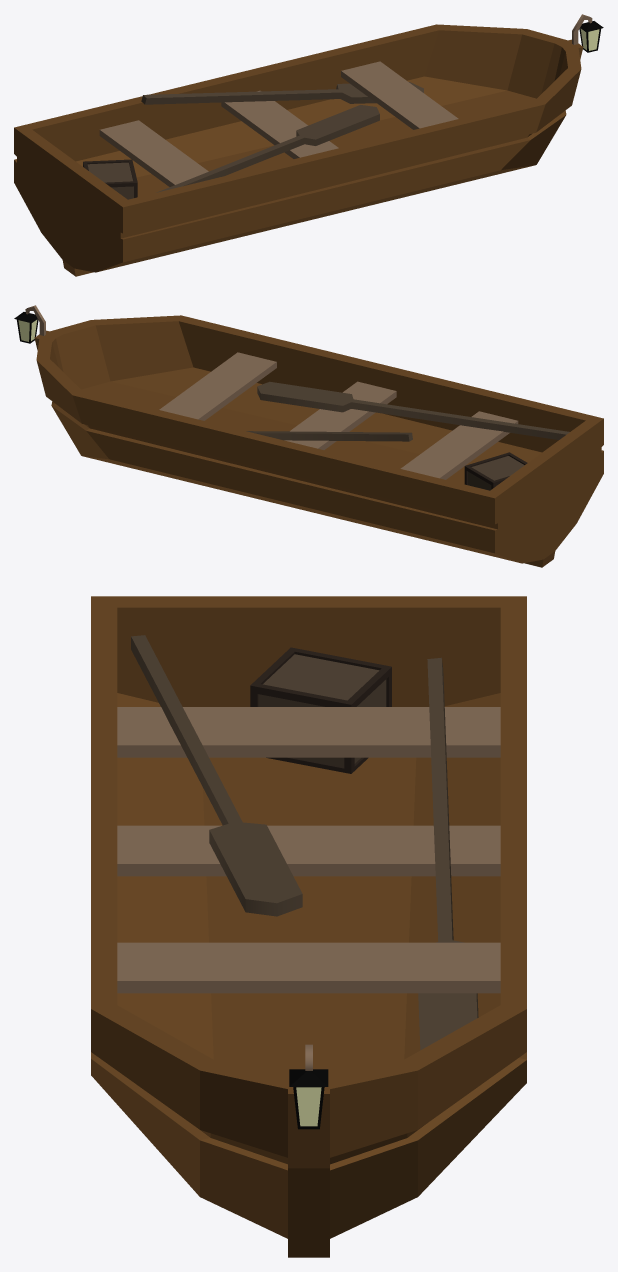
3 renders of one model, top to bottom at view 1: azimuth 30°, elevation 25°; view 2: azimuth 150°, elevation 25°; view 3: azimuth 270°, elevation 25°, orthographic. The views are drawn at different scales.
Parts seen in each view (by area): view 1: Boat_Barca_0, Bancos, Remos, caja_remos_0, cantos_Cajon_0; view 2: Boat_Barca_0, Bancos, Remos, caja_remos_0, cantos_Cajon_0; view 3: Boat_Barca_0, Bancos, Remos, caja_remos_0, cantos_Cajon_0, Farolillo002_BanderaPirata_0, CristalesFarolillos001_Cristales_0.
Part boxes in pixels (left/top/right/bottom): Boat_Barca_0: left=14, top=24, right=583, bottom=276; Bancos: left=99, top=61, right=458, bottom=186; Remos: left=141, top=82, right=423, bottom=192; caja_remos_0: left=87, top=162, right=133, bottom=199; cantos_Cajon_0: left=83, top=159, right=137, bottom=197; Boat_Barca_0: left=34, top=315, right=603, bottom=567; Bancos: left=159, top=352, right=518, bottom=479; Remos: left=246, top=381, right=569, bottom=441; caja_remos_0: left=468, top=456, right=524, bottom=490; cantos_Cajon_0: left=464, top=452, right=527, bottom=489; Boat_Barca_0: left=91, top=596, right=526, bottom=1257; Bancos: left=117, top=707, right=500, bottom=993; Remos: left=131, top=635, right=478, bottom=1050; caja_remos_0: left=258, top=654, right=386, bottom=767; cantos_Cajon_0: left=250, top=647, right=391, bottom=773; Farolillo002_BanderaPirata_0: left=289, top=1069, right=328, bottom=1129; CristalesFarolillos001_Cristales_0: left=296, top=1087, right=321, bottom=1126.
Bounding box in the file's own units: 93.89 × 22.38 × 33.43.
